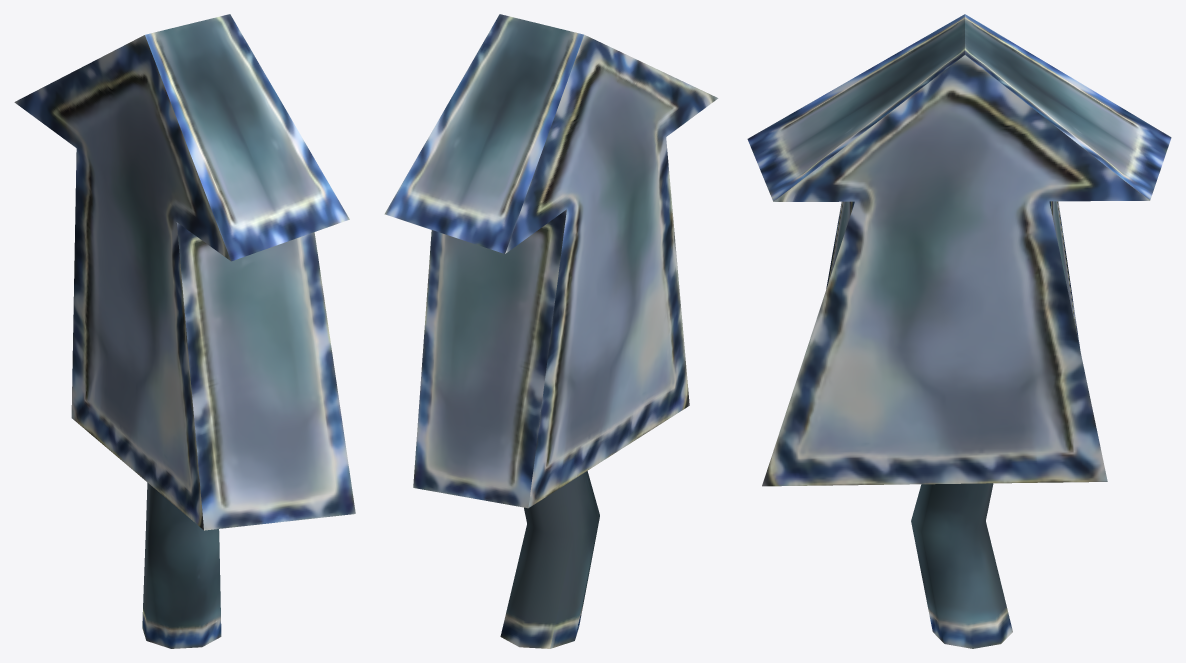
The model's file is signup.dae.
The picture shows the model from 3 angles, left to right: view 1: azimuth 30°, elevation 25°; view 2: azimuth 150°, elevation 25°; view 3: azimuth 270°, elevation 25°; orthographic projection.
Parts seen in each view (by area): view 1: signup; view 2: signup; view 3: signup.
Part boxes in pixels (x1=…): signup: x1=14, y1=14, x2=355, y2=648; signup: x1=384, y1=14, x2=718, y2=648; signup: x1=747, y1=14, x2=1171, y2=648.
Size of the model in its own units: 0.3359 by 0.9483 by 1.48.
